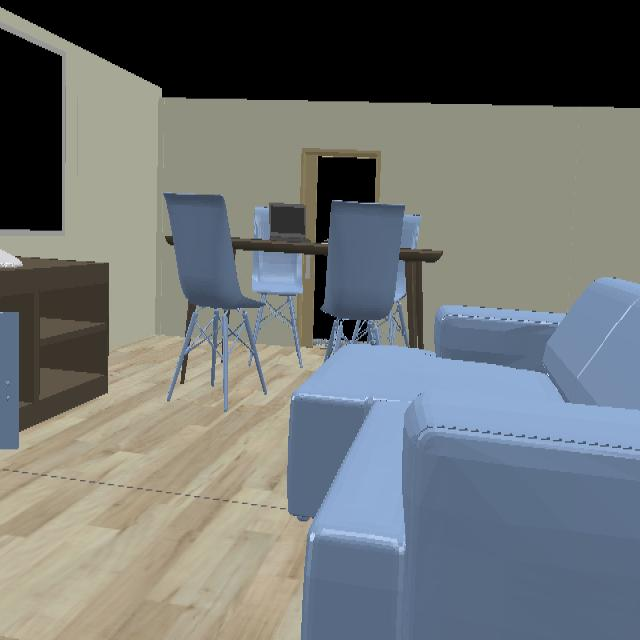bookshelf: (0, 258, 108, 428)
chair: (166, 193, 302, 408), (321, 200, 419, 358), (255, 208, 270, 239)
laptop: (269, 203, 310, 241)
monitor: (0, 23, 65, 234), (0, 251, 20, 267)
sofa: (288, 278, 640, 638)
table: (400, 248, 442, 348), (231, 239, 327, 256)
